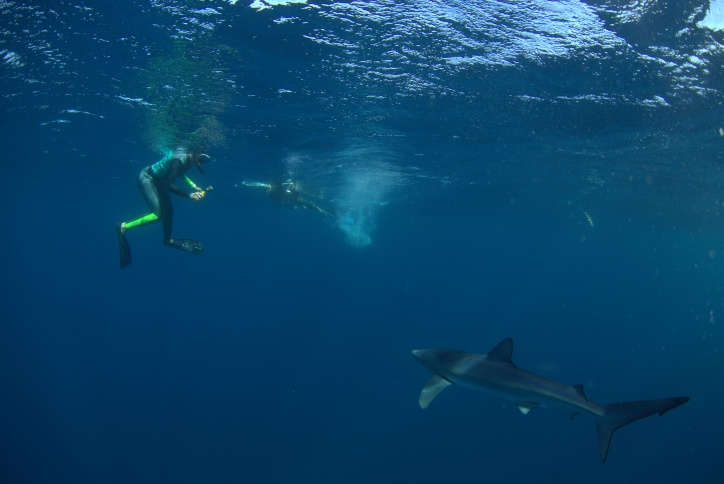Azul: (391, 322, 707, 484)
